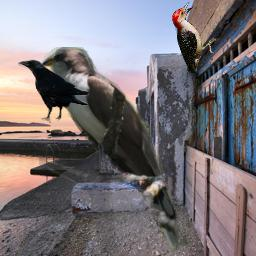Crow: (18, 59, 89, 124)
Cuckoo: (39, 47, 195, 253)
Woodpecker: (172, 1, 219, 73)
